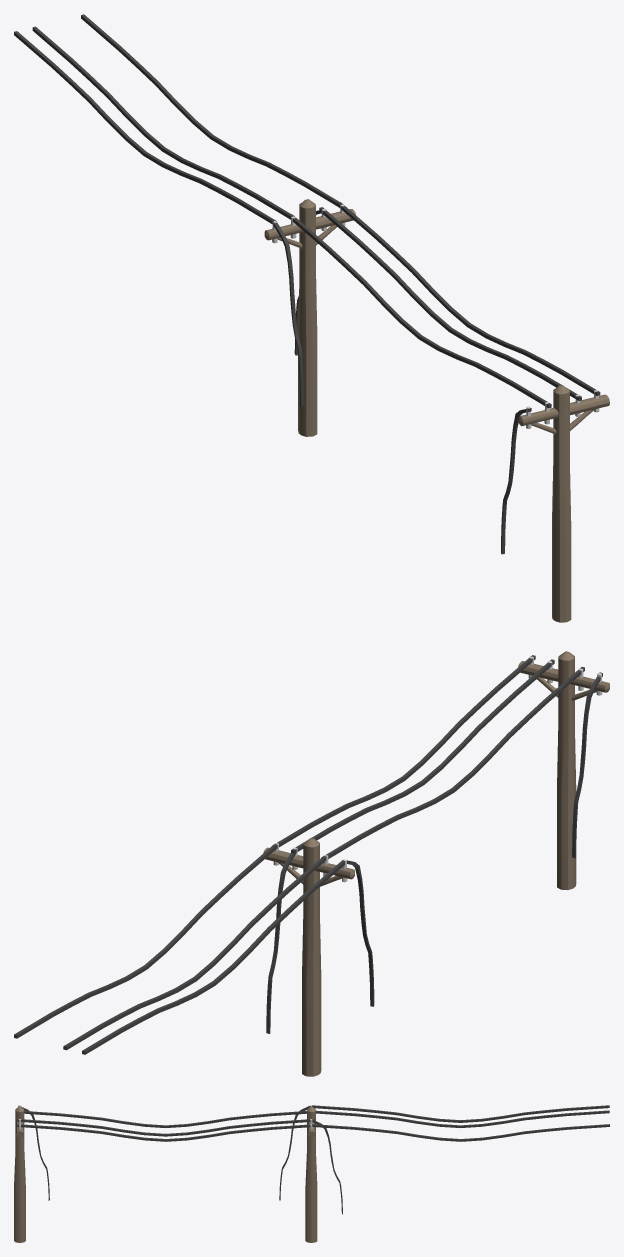
File: postes con cables.fbx
3 renders of one model, top to bottom at view 1: azimuth 30°, elevation 25°; view 2: azimuth 150°, elevation 25°; view 3: azimuth 270°, elevation 25°, orthographic. The views are drawn at different scales.
Visible parts, largest first — view 1: polySurface4, polySurface11, polySurface1, polySurface22, polySurface24, polySurface23, polySurface19, polySurface21, polySurface20, polySurface5; view 2: polySurface11, polySurface4, polySurface22, polySurface23, polySurface24, polySurface19, polySurface1, polySurface21, polySurface2, polySurface25, polySurface20, polySurface15 (+1 smaller); view 3: polySurface4, polySurface11, polySurface22, polySurface21, polySurface23, polySurface1, polySurface24, polySurface19, polySurface25, polySurface20.
Part boxes in pixels (bbox=[...]): polySurface4: bbox=[552, 385, 571, 622]; polySurface11: bbox=[298, 199, 317, 436]; polySurface1: bbox=[337, 202, 600, 395]; polySurface22: bbox=[81, 14, 342, 206]; polySurface24: bbox=[32, 26, 294, 219]; polySurface23: bbox=[14, 31, 275, 224]; polySurface19: bbox=[289, 214, 551, 408]; polySurface21: bbox=[319, 207, 581, 400]; polySurface20: bbox=[273, 221, 304, 406]; polySurface5: bbox=[518, 394, 609, 426]; polySurface11: bbox=[302, 838, 321, 1076]; polySurface4: bbox=[557, 651, 576, 889]; polySurface22: bbox=[14, 844, 277, 1038]; polySurface23: bbox=[82, 860, 345, 1054]; polySurface24: bbox=[63, 855, 326, 1050]; polySurface19: bbox=[321, 667, 584, 860]; polySurface1: bbox=[272, 655, 535, 849]; polySurface21: bbox=[291, 659, 554, 853]; polySurface2: bbox=[572, 672, 602, 858]; polySurface25: bbox=[266, 848, 296, 1033]; polySurface20: bbox=[347, 860, 374, 1006]; polySurface15: bbox=[263, 847, 354, 879]; polySurface4: bbox=[14, 1106, 25, 1242]; polySurface11: bbox=[305, 1106, 317, 1242]; polySurface22: bbox=[312, 1124, 609, 1141]; polySurface21: bbox=[16, 1119, 314, 1136]; polySurface23: bbox=[312, 1105, 609, 1122]; polySurface1: bbox=[17, 1124, 315, 1141]; polySurface24: bbox=[316, 1110, 609, 1127]; polySurface19: bbox=[24, 1111, 306, 1127]; polySurface25: bbox=[312, 1120, 342, 1214]; polySurface20: bbox=[279, 1106, 310, 1200].
Bounding box in the file's own units: 1.97 × 4.98 × 20.14.
